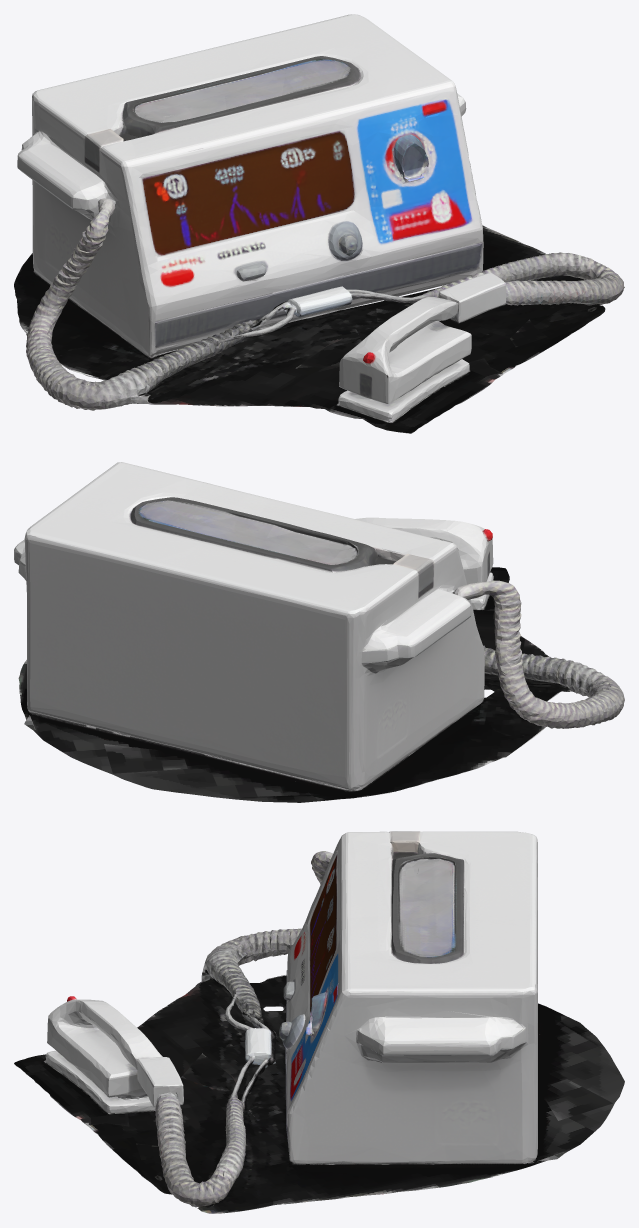
The model's file is DESFIBRILADOR.glb.
3 views of the same model, one above another, from view 1: azimuth 30°, elevation 25°; view 2: azimuth 150°, elevation 25°; view 3: azimuth 270°, elevation 25° (orthographic). The views are drawn at different scales.
Visible parts, largest first — view 1: world; view 2: world; view 3: world.
Boxes of the visible parts, x1=… form: world: x1=14, y1=14, x2=624, y2=433; world: x1=14, y1=462, x2=624, y2=802; world: x1=14, y1=831, x2=624, y2=1213.
Size of the model in its own units: 1 by 0.3193 by 0.9771.
Materials: 1 (1 with a texture image).
